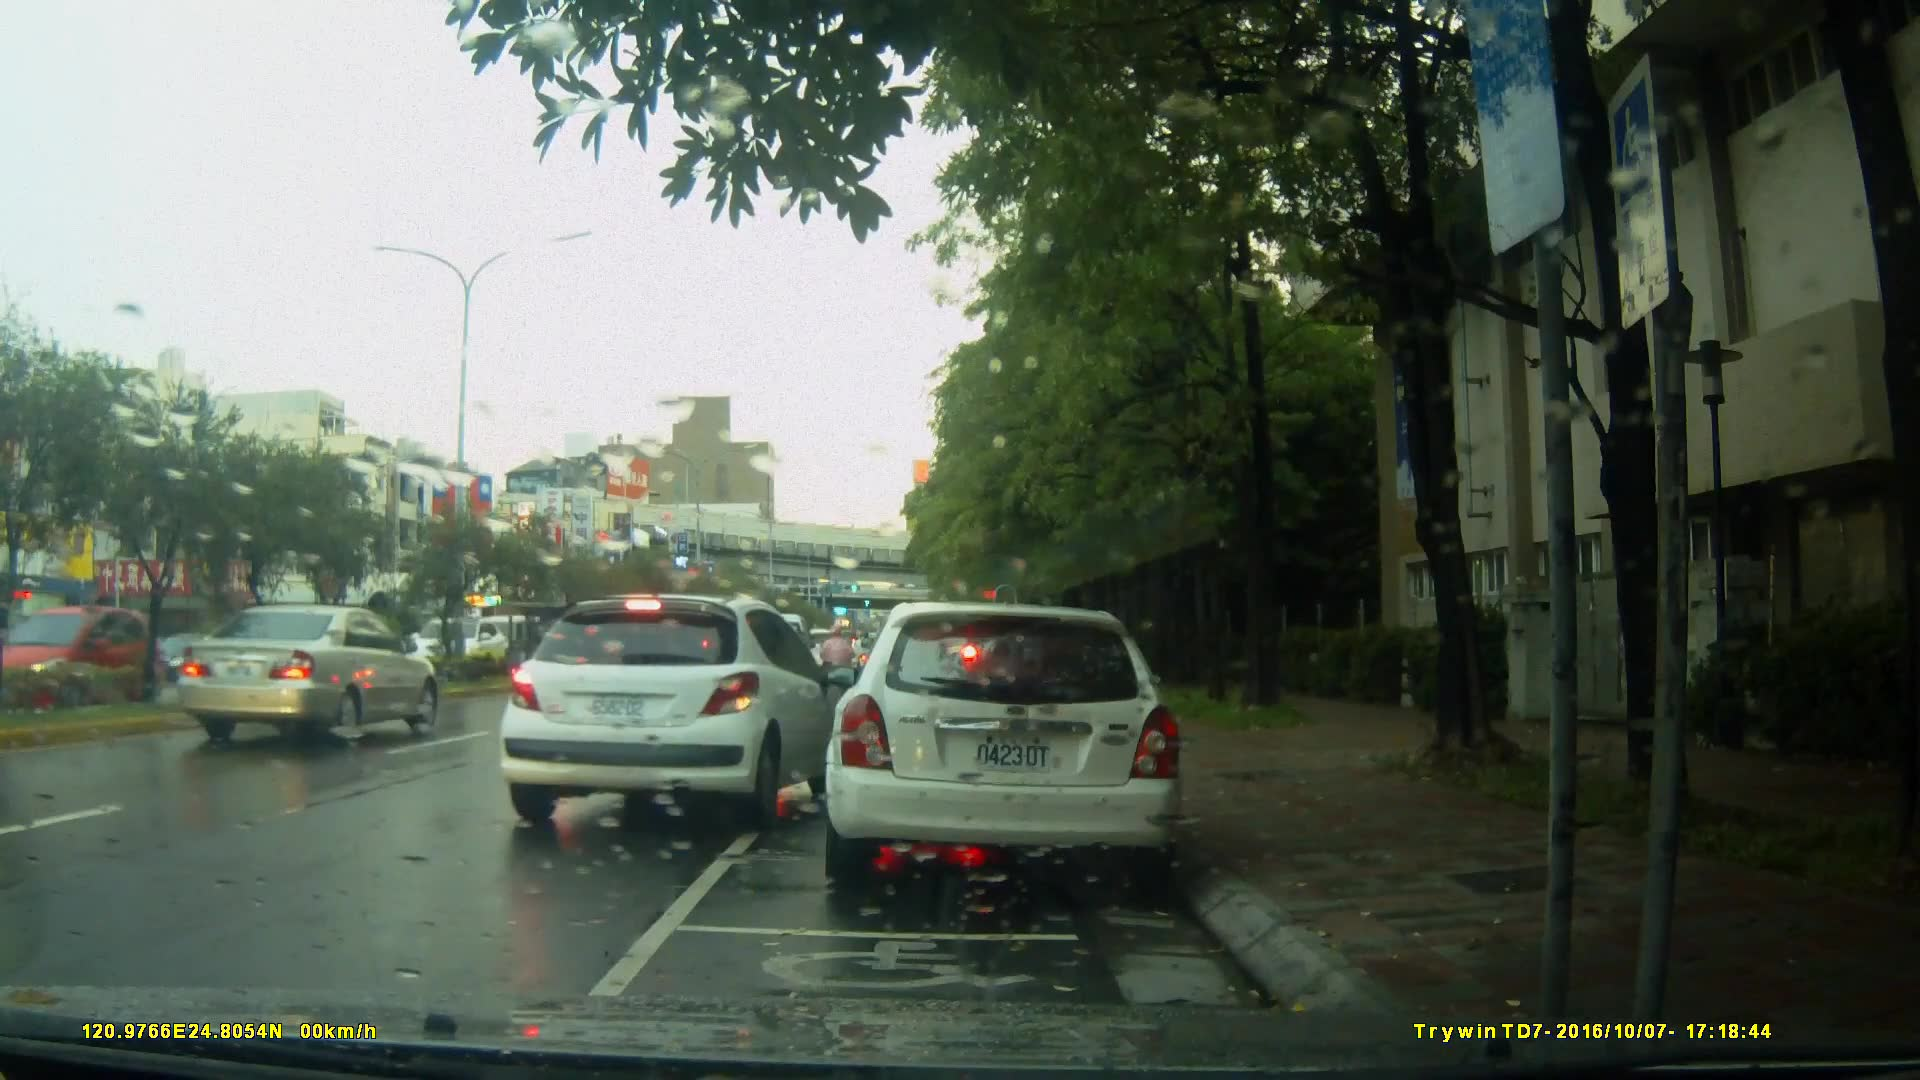rider: (819, 617, 852, 709)
vehicle: (820, 602, 1188, 898), (496, 591, 859, 833), (174, 603, 444, 748), (1, 604, 178, 722)
